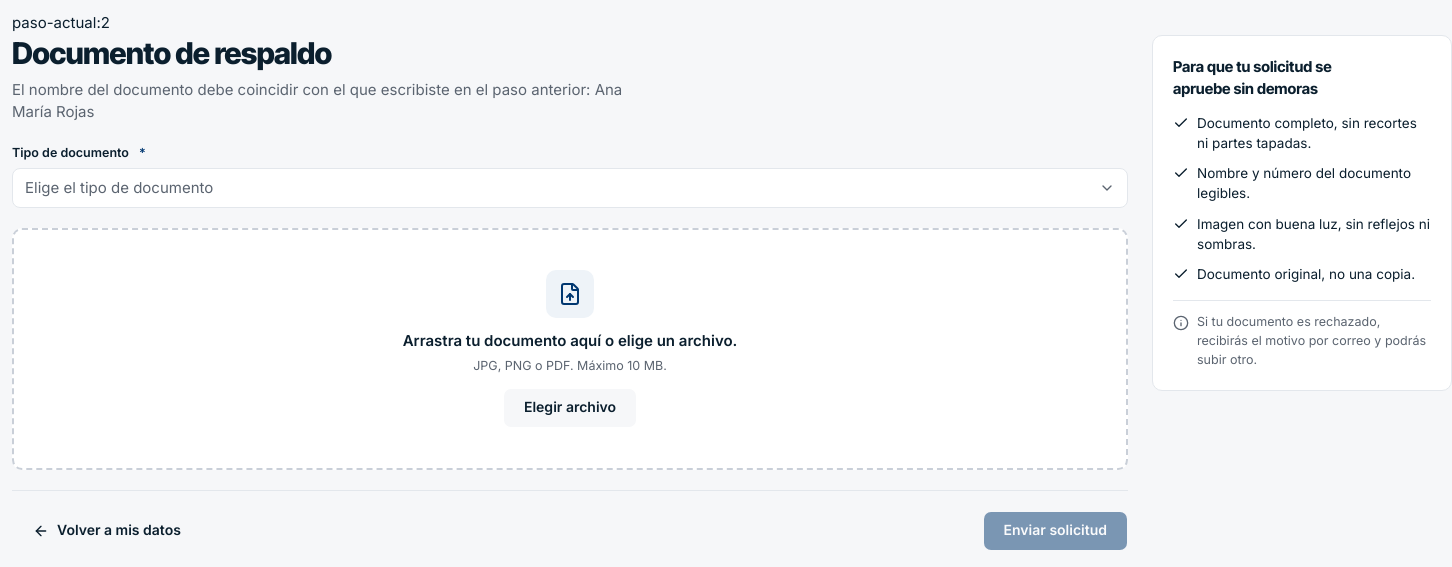
Test case: DocumentStep › elegir una opción guarda el tipo en el Context y lo muestra
Click the dropdown labelled "Elige el tipo de documento ▼".
click(119, 188)  # box [12,168,1128,208]
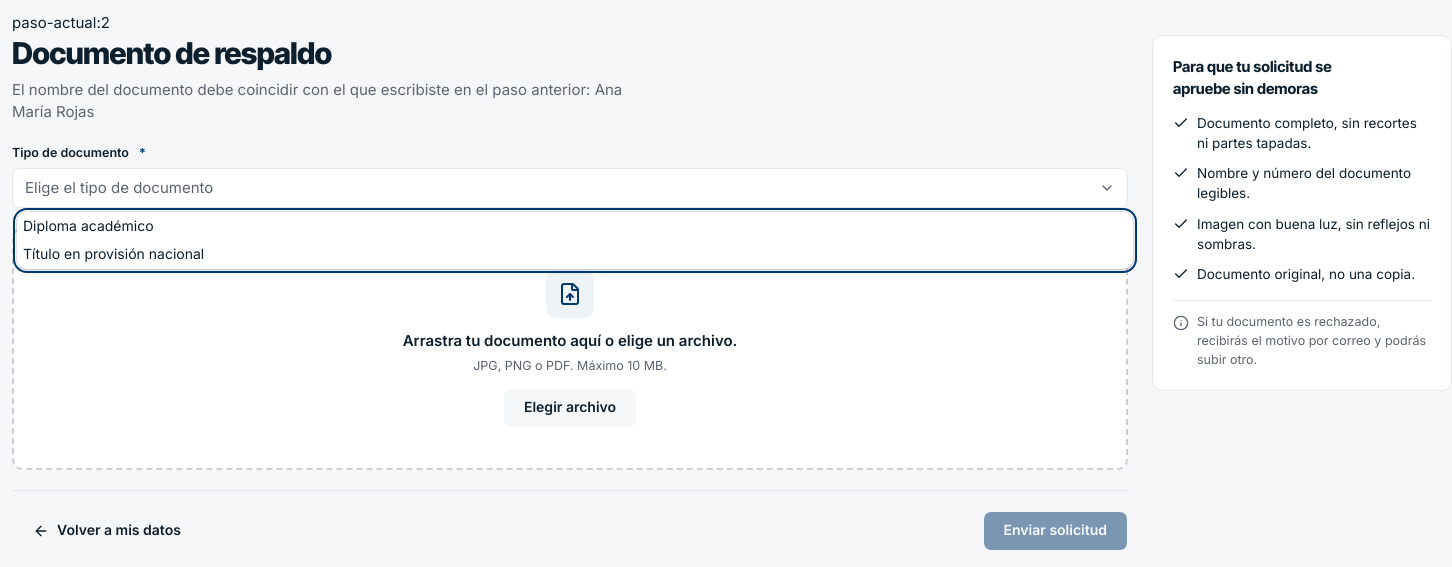
Click the option "Título en provisión nacional".
click(114, 254)  # box [23,245,204,262]
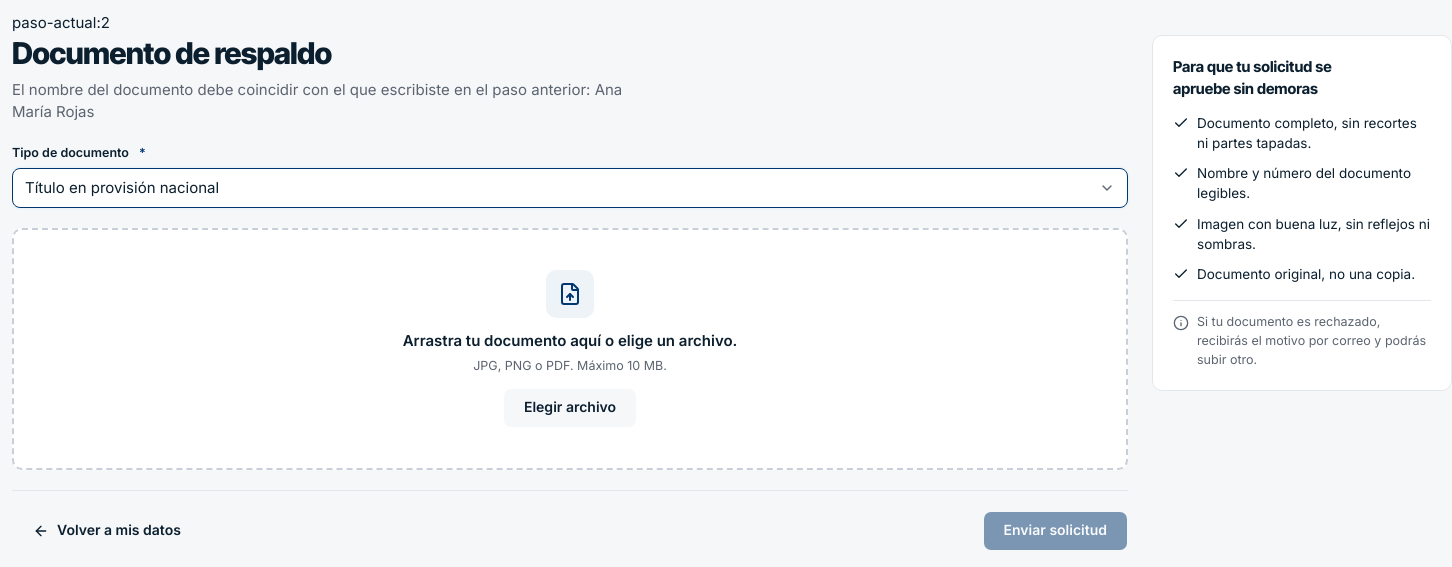
Expected: the dropdown named "Tipo de documento" shows "Título en provisión nacional", [12,168,1128,208]
